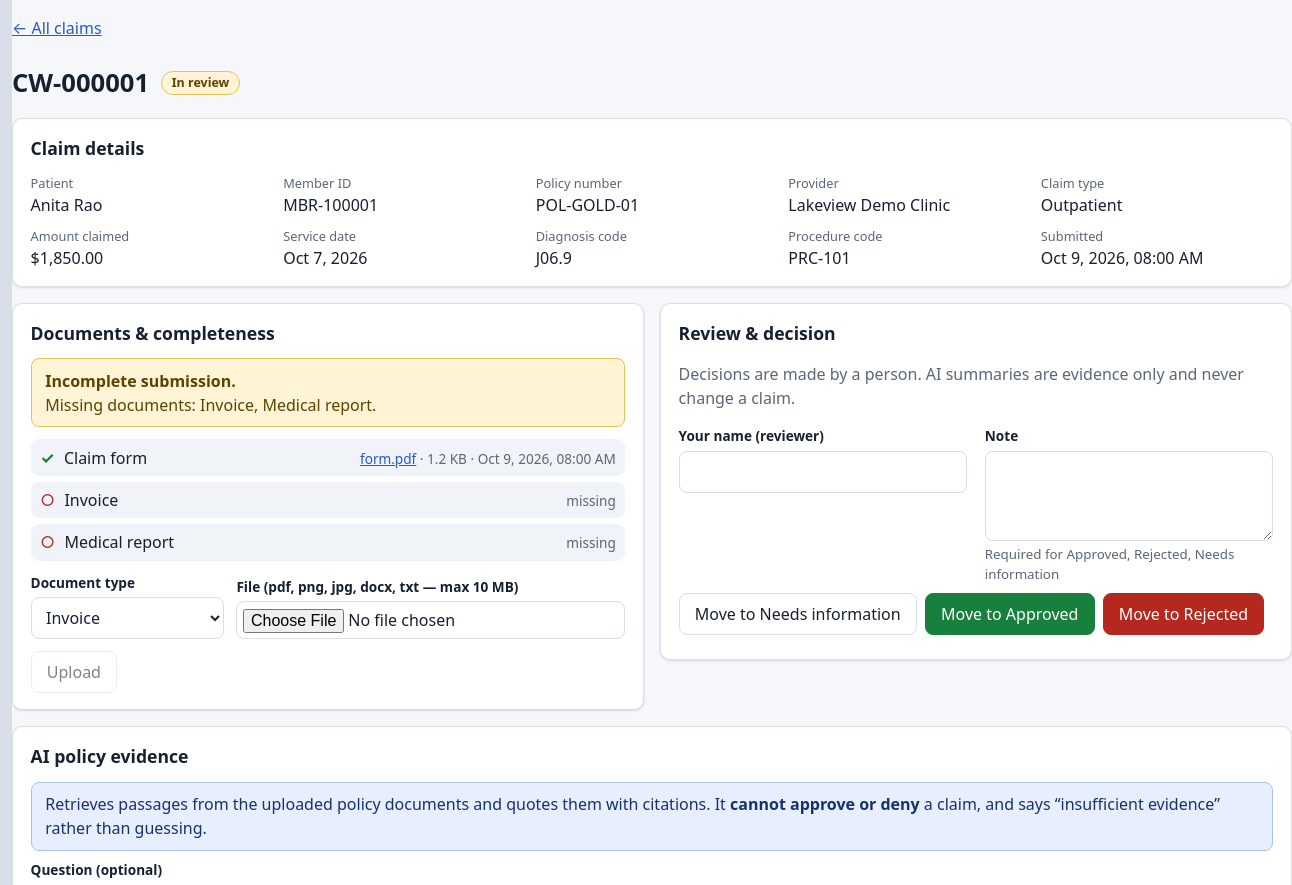
Scenario: ClaimDetailPage › shows the server explanation when a decision is refused
Expected: the heading "CW-000001 In review" is shown, top-left (12, 64), bottom-right (240, 102)
Type "Rita Reviewer" into the field labelled "Your name (reviewer)".
click(823, 472); type("Rita Reviewer")  # box top-left (679, 450), bottom-right (967, 492)
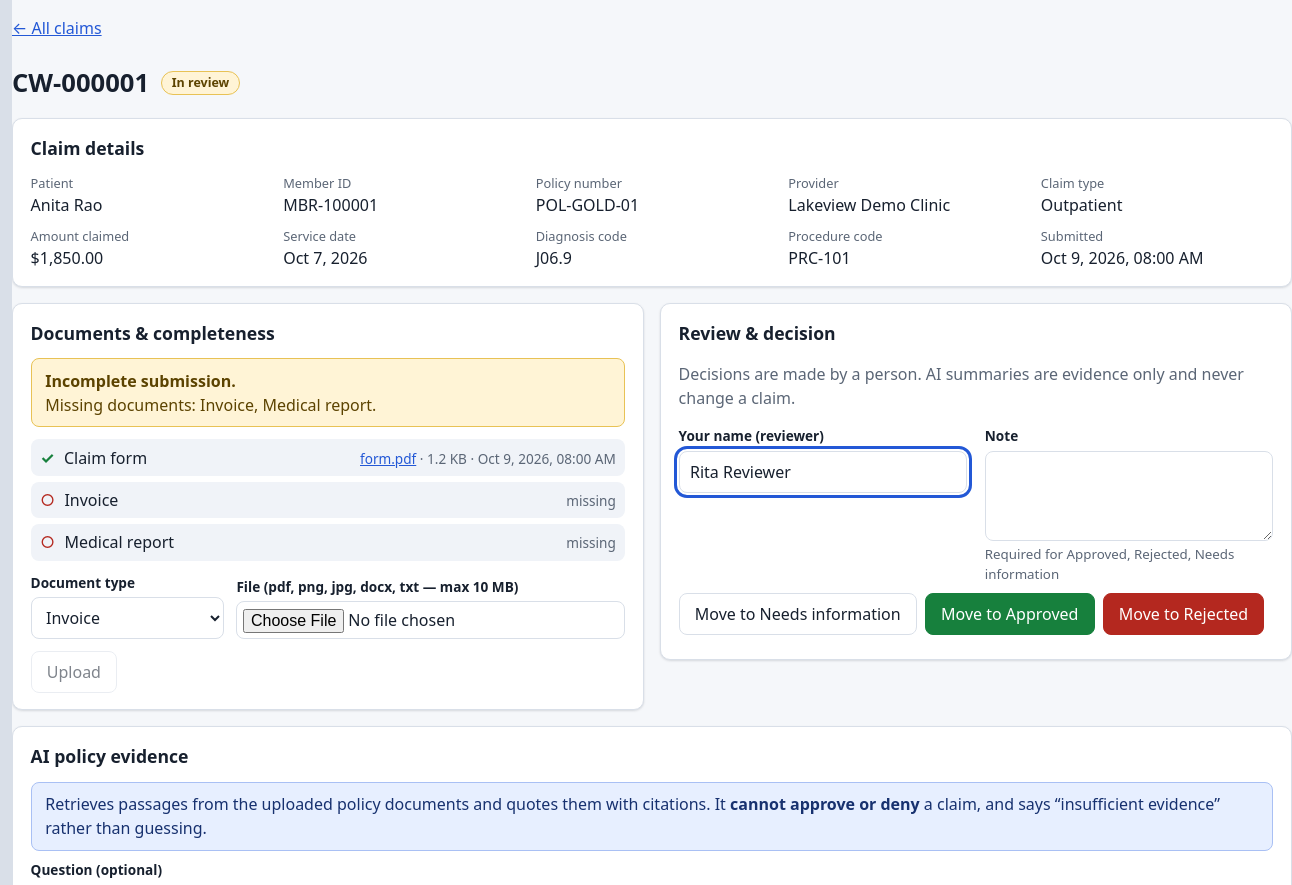
Type "Trying anyway" into the text box labelled "Note".
click(1129, 496); type("Trying anyway")  # box top-left (985, 450), bottom-right (1273, 540)
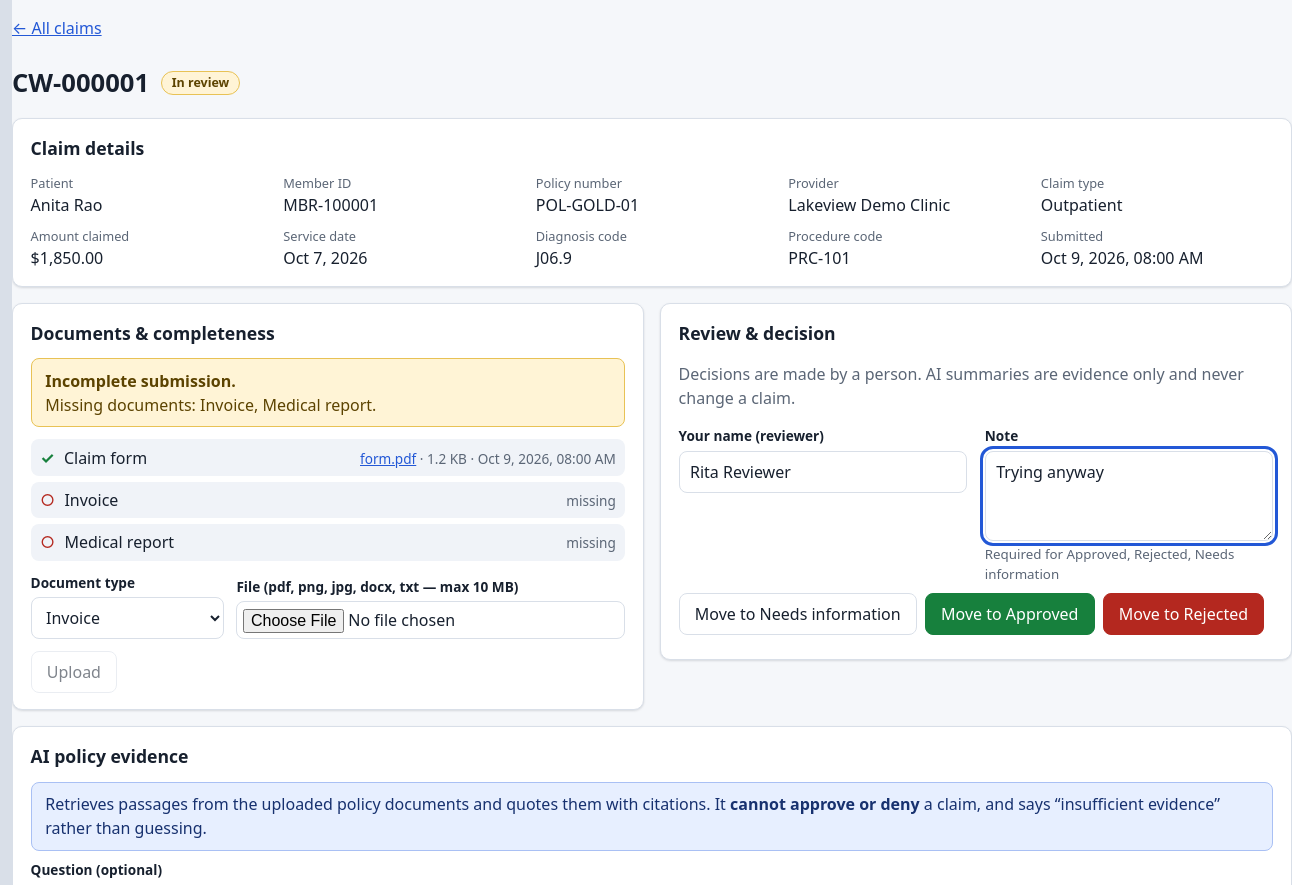
Click the button "Move to Approved".
click(1010, 614)  # box top-left (925, 592), bottom-right (1095, 634)
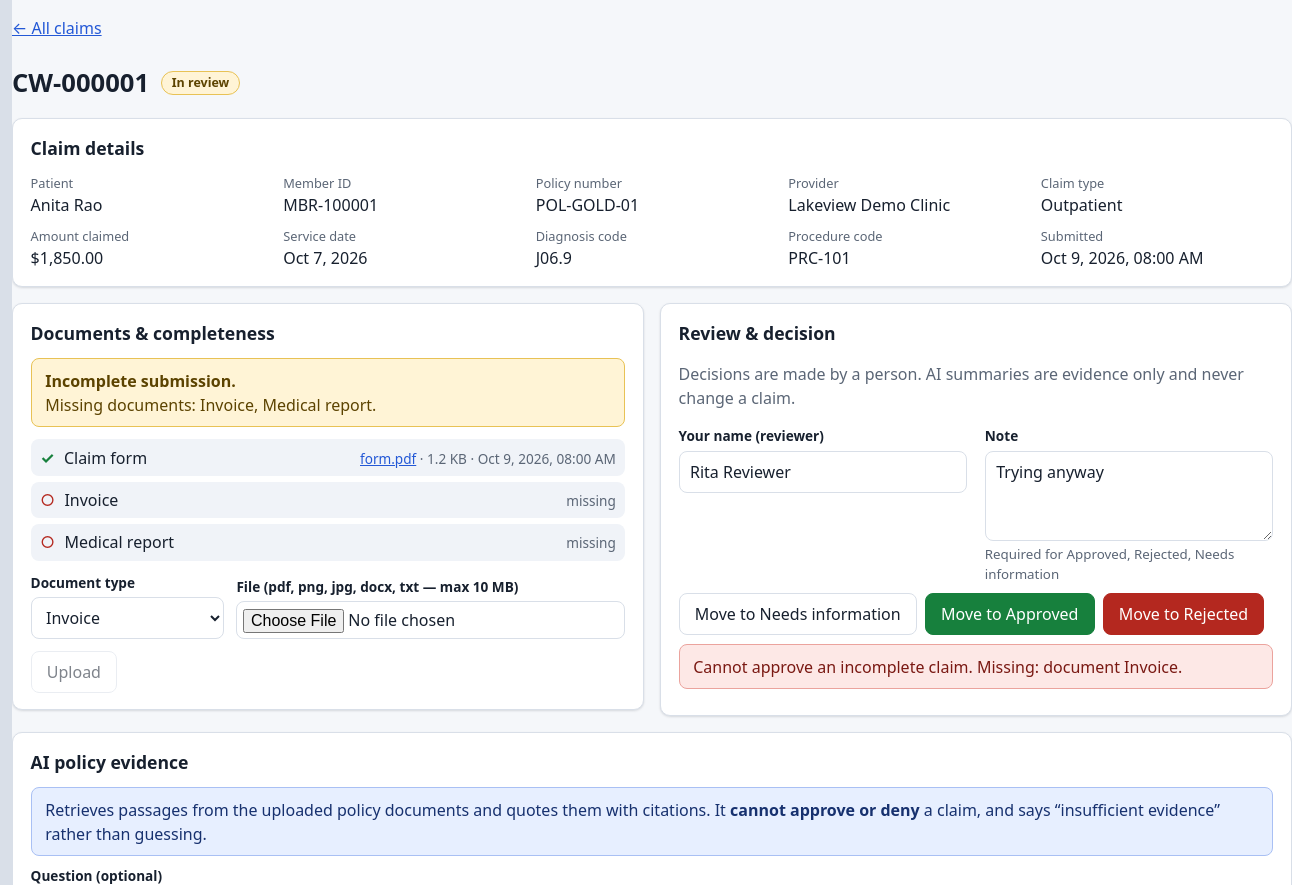
Now the text "Cannot approve an incomplete claim. Missing: document Invoice." is shown, box top-left (693, 655), bottom-right (1259, 679)
